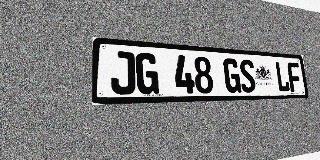4: (174, 55, 195, 94)
8: (193, 56, 214, 93)
F: (287, 62, 302, 92)
G: (135, 52, 159, 94), (223, 58, 241, 93)
J: (110, 51, 136, 95)
L: (274, 61, 290, 92)
S: (239, 59, 256, 93)
